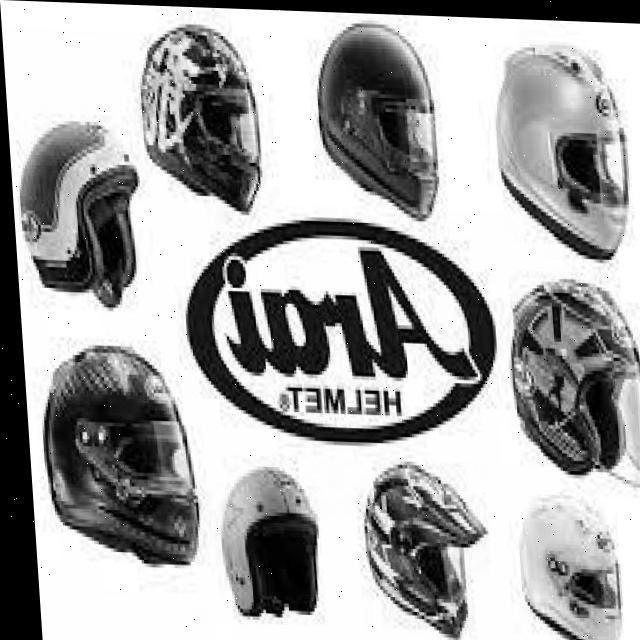Helmet: (31, 339, 203, 578), (487, 37, 630, 260), (497, 273, 640, 485), (310, 15, 443, 219), (130, 18, 268, 212), (347, 458, 485, 637), (14, 127, 141, 314), (207, 460, 325, 629), (506, 481, 619, 640)
